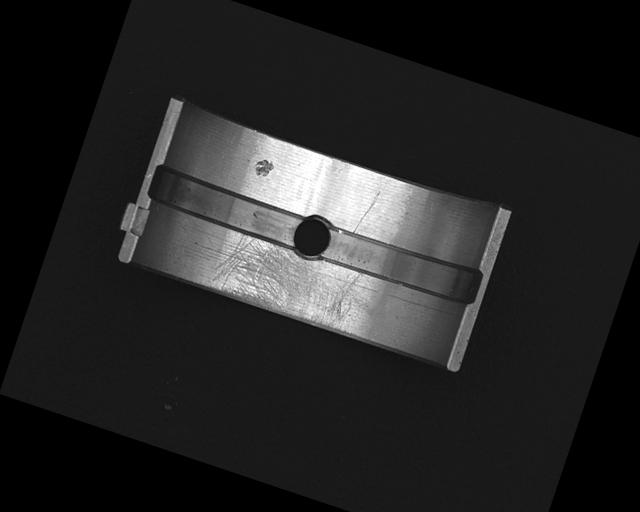bruise: (251, 155, 275, 180)
gap: (319, 222, 483, 309), (145, 165, 305, 249)
hole: (287, 210, 337, 264)
nick: (351, 186, 380, 236)
scratch: (208, 227, 379, 338)
